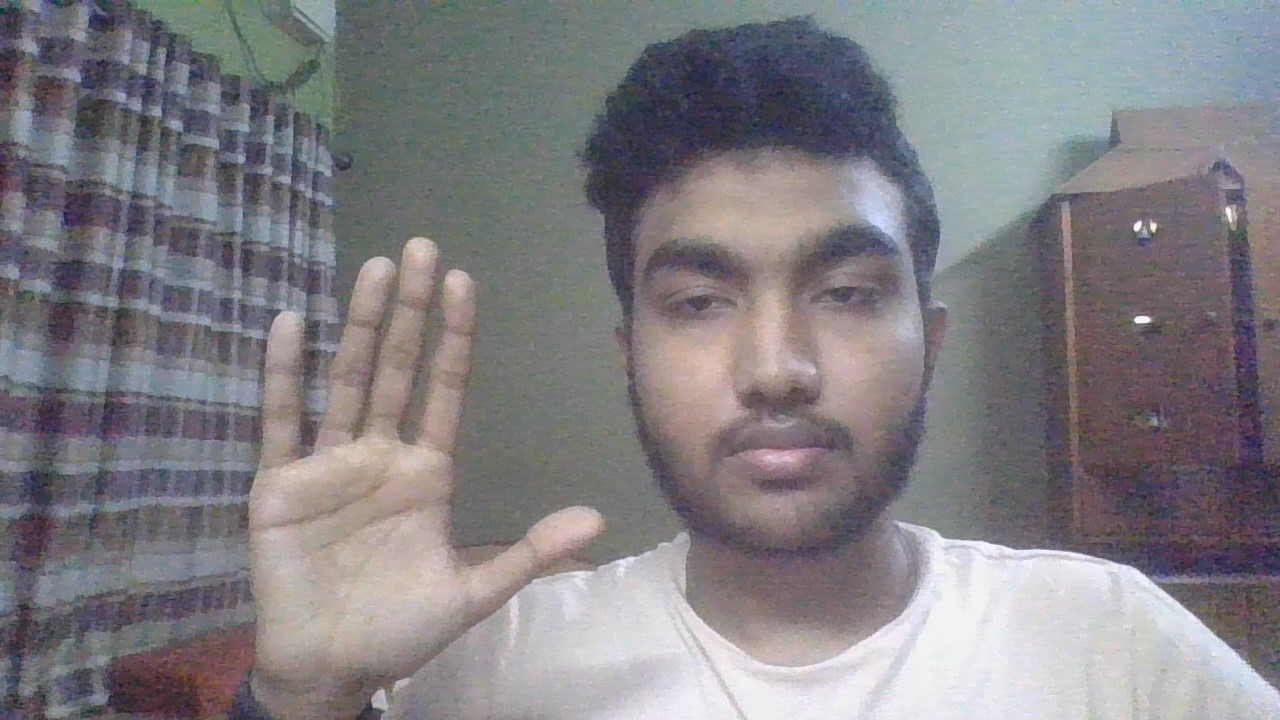Hello: (239, 231, 612, 720)
